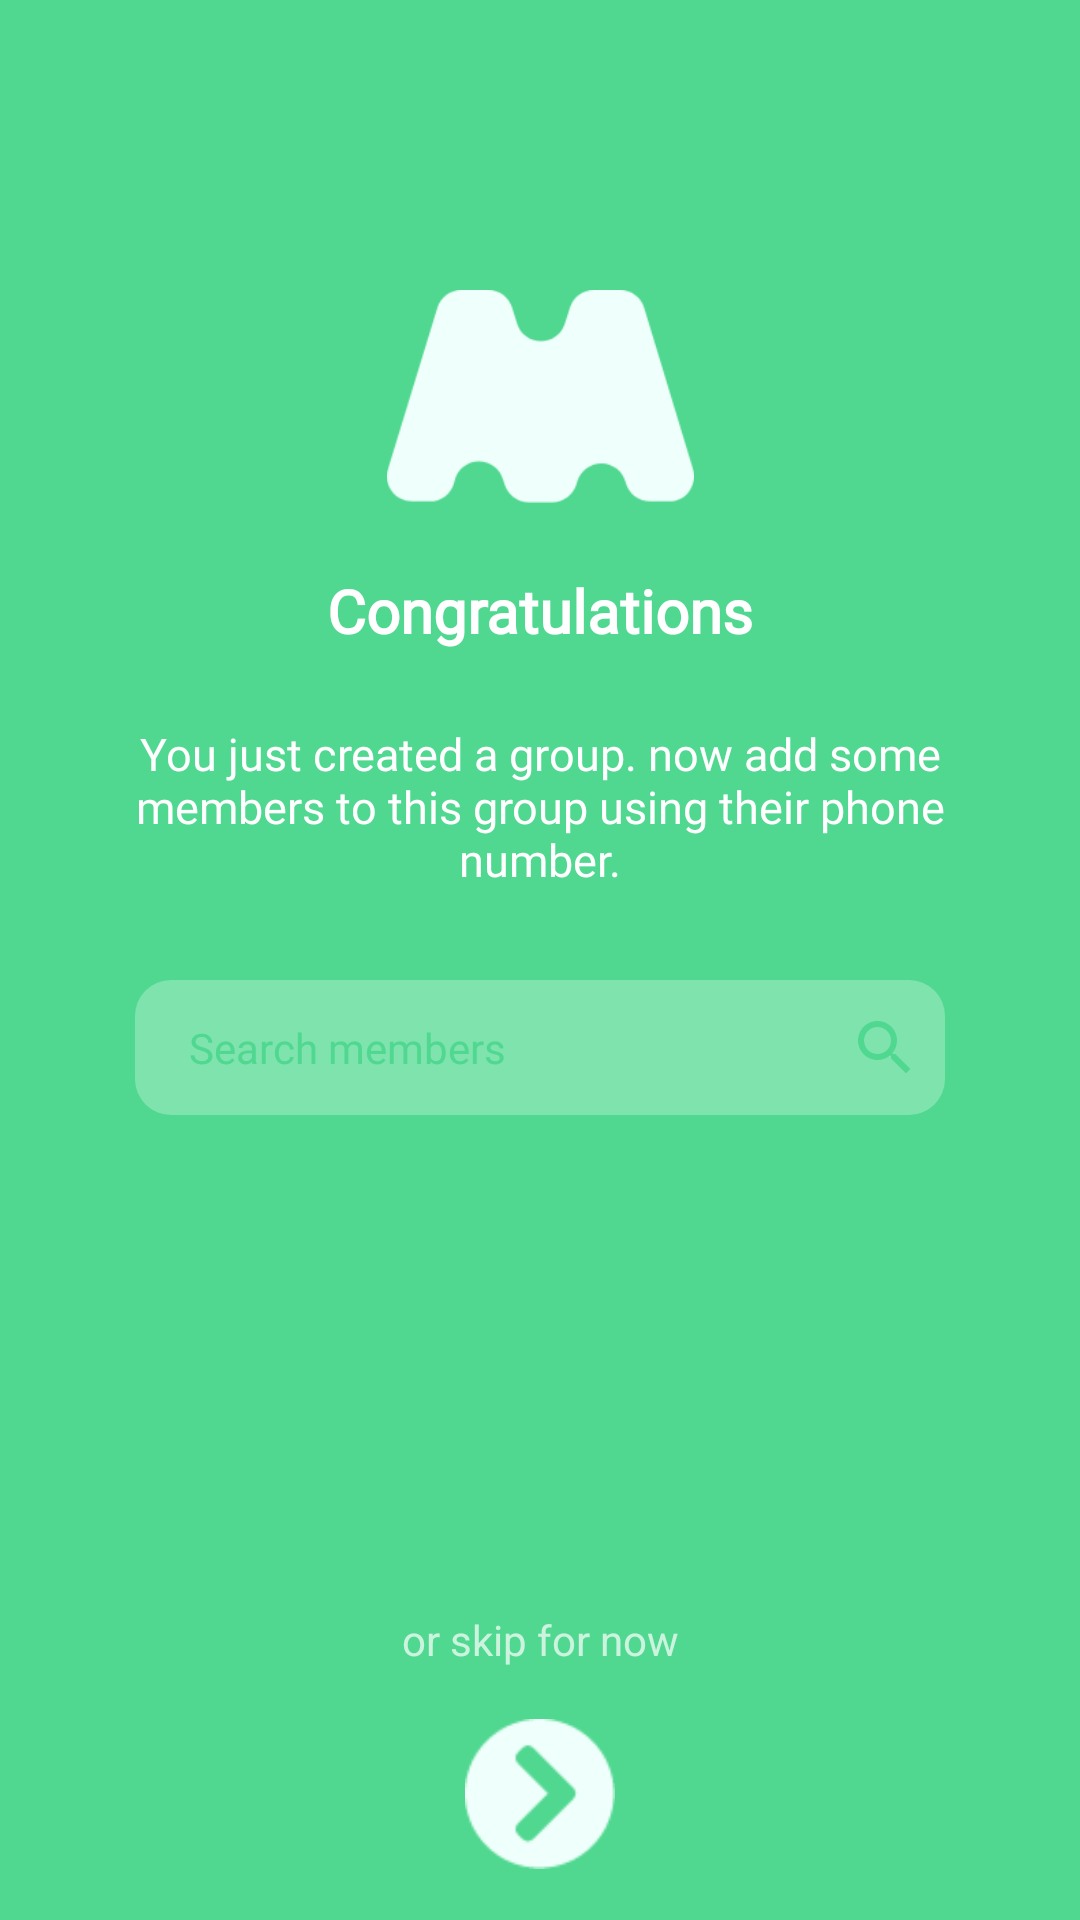

Screen size 1080x1920. Icon name, then its center in pixels as (x,y):
group search: (884,1047)
next: (540,1794)
